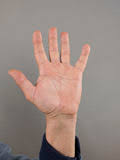palm: (6, 26, 93, 121)
